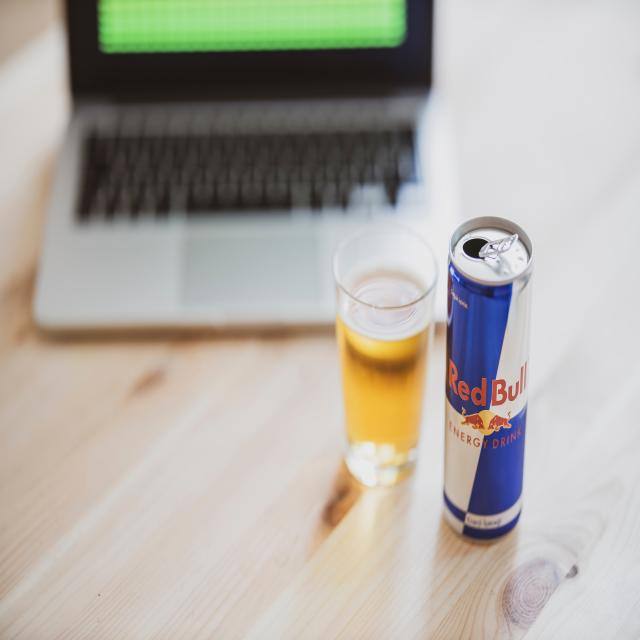can: (442, 216, 536, 542)
